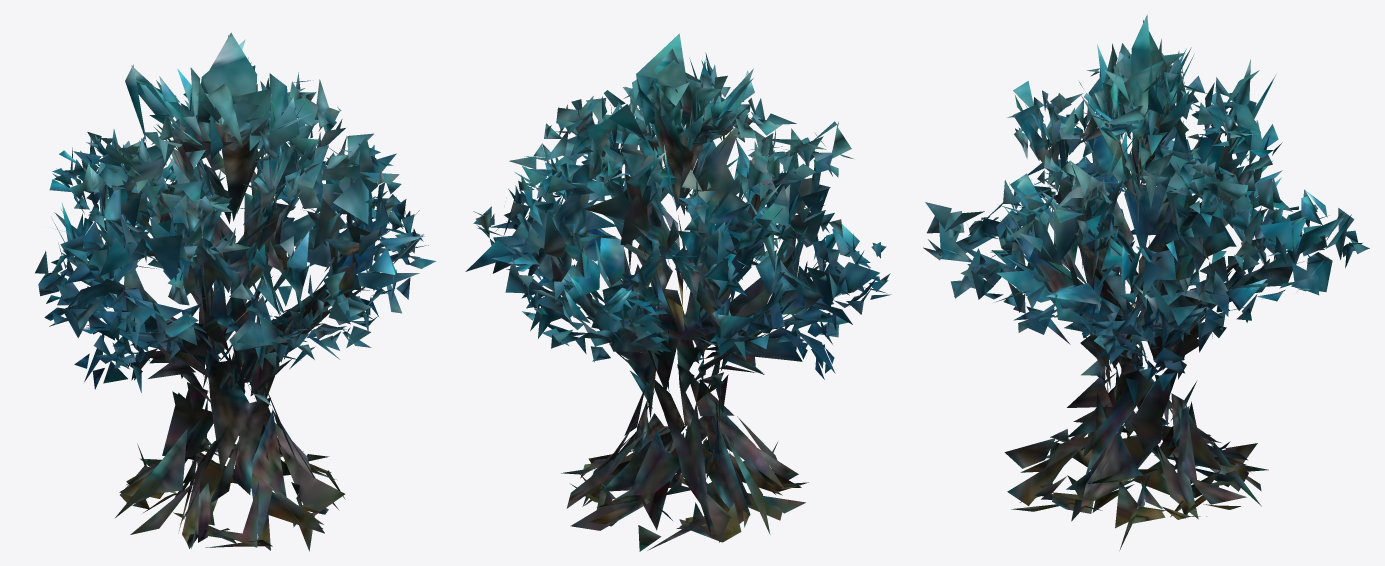
The model's file is arvore_cristal_mana_adulta-lod.glb.
The picture shows the model from 3 angles, left to right: view 1: azimuth 30°, elevation 25°; view 2: azimuth 150°, elevation 25°; view 3: azimuth 270°, elevation 25°; orthographic projection.
Visible parts, largest first — view 1: geometry_0; view 2: geometry_0; view 3: geometry_0.
Part boxes in pixels (bbox=[...]): geometry_0: bbox=[35, 32, 436, 551]; geometry_0: bbox=[465, 33, 891, 551]; geometry_0: bbox=[923, 14, 1369, 550].
Bounding box in the file's own units: 0.8567 × 1.06 × 0.8712.
1 material, 1 textured.
